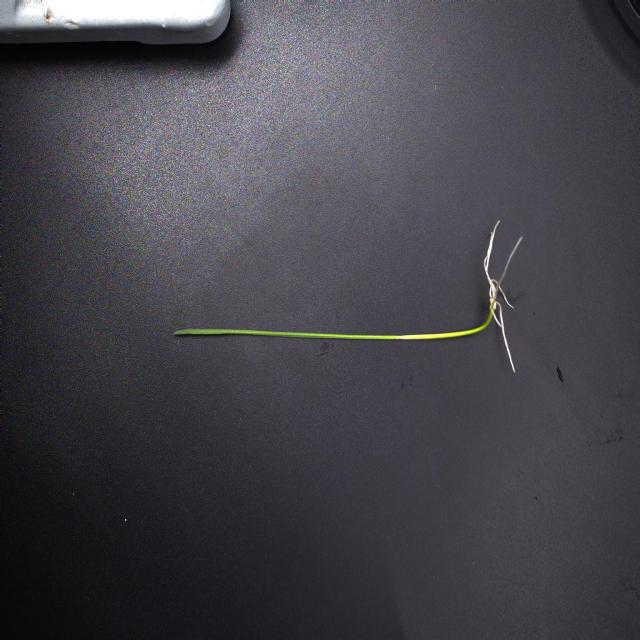leaf_w: (174, 329, 398, 339)
root_w: (491, 236, 524, 308), (495, 302, 515, 373), (486, 219, 501, 294), (489, 278, 515, 309), (483, 231, 495, 297), (489, 304, 502, 328)
stem_w: (398, 298, 496, 339)
